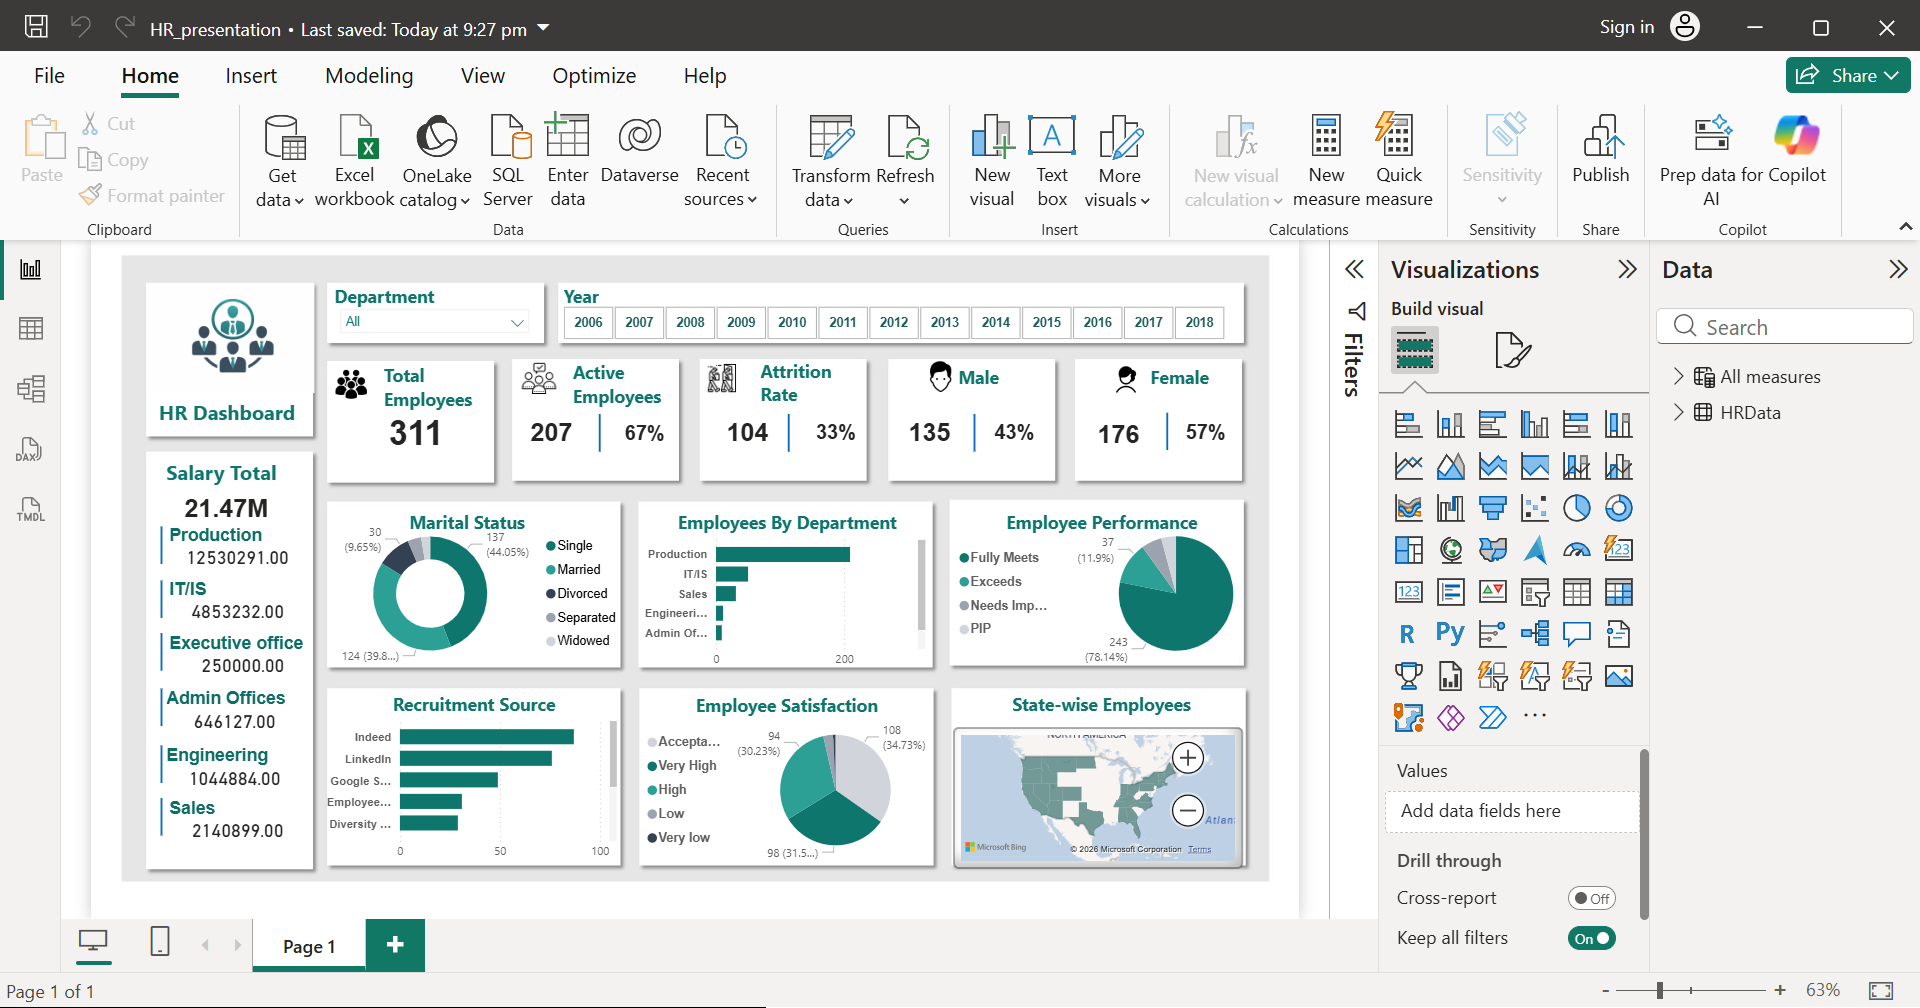

This screenshot's page, from the dashboard's own definition file:
{"tool":"powerbi","page":{"name":"Page 1","canvas":[1280,720],"ordinal":0},"visuals":[{"type":"textbox","box":[66.8,162.2,157.5,42.9],"z":0},{"type":"textbox","box":[704.6,120.9,112.9,62],"z":1000},{"type":"textbox","box":[505.8,122.5,112.9,77.9],"z":2000},{"type":"textbox","box":[305.4,125.7,117.7,76.3],"z":3000},{"type":"textbox","box":[253.2,41.6,156.9,43.5],"z":4000},{"type":"textbox","box":[74.8,225.9,149.5,55.7],"z":5000},{"type":"textbox","box":[496.3,41.4,157.5,44.5],"z":6000},{"type":"textbox","box":[914.3,127.1,64.3,42.9],"z":7000},{"type":"textbox","box":[1117.5,127.5,83.8,42.5],"z":8000},{"type":"textbox","box":[314.9,474,189.3,42.9],"z":9000},{"type":"textbox","box":[965.5,281.5,222.7,42.9],"z":10000},{"type":"textbox","box":[617.2,281.5,249.7,44.5],"z":11000},{"type":"textbox","box":[332.4,281.5,155.9,42.9],"z":12000},{"type":"textbox","box":[971.9,474,208.4,42.9],"z":13000},{"type":"textbox","box":[636.2,475.6,213.1,42.9],"z":14000},{"type":"image","box":[63.6,46.1,173.4,116.1],"z":15000},{"type":"image","box":[259.3,133.6,33.4,38.2],"z":16000},{"type":"image","box":[454.9,127.2,41.4,39.8],"z":17000},{"type":"image","box":[641,130.4,55.7,31.8],"z":18000},{"type":"image","box":[1076.2,130,41.2,33.8],"z":19000},{"type":"image","box":[878.8,127.5,46.2,35],"z":20000},{"type":"slicer","fields":{"Values":["HRData.Department"]},"box":[253.8,63.8,220,48.8],"z":21000},{"type":"card","fields":{"Values":["All measures.Head count"]},"box":[292.7,175,103.4,55.7],"z":22000},{"type":"card","fields":{"Values":["All measures.Active"]},"box":[448.8,170,78.8,67.5],"z":23000},{"type":"card","fields":{"Values":["All measures.Active %"]},"box":[535,171.2,105,67.5],"z":24000},{"type":"shape","box":[516.2,185,45,40],"z":25000},{"type":"card","fields":{"Values":["All measures.Terminated"]},"box":[652.5,172.5,87.5,63.8],"z":26000},{"type":"card","fields":{"Values":["All measures.Terminated %"]},"box":[750.8,173.4,77.9,60.4],"z":27000},{"type":"shape","box":[717.5,183.8,45,40],"z":28000},{"type":"card","fields":{"Values":["All measures.Male"]},"box":[850,175,78.8,56.2],"z":29000},{"type":"card","fields":{"Values":["All measures.Female"]},"box":[1050,173.8,78.8,63.8],"z":30000},{"type":"card","fields":{"Values":["All measures.Male %"]},"box":[949.6,170.2,58.9,68.4],"z":31000},{"type":"card","fields":{"Values":["All measures.Female %"]},"box":[1142.1,168.6,79.5,70],"z":32000},{"type":"shape","box":[1118.2,182.9,46.1,39.8],"z":33000},{"type":"shape","box":[914.6,184.5,44.5,39.8],"z":34000},{"type":"donutChart","fields":{"Category":["HRData.MaritalStatus"],"Y":["All measures.Head count"]},"box":[231.7,288.3,338.3,173.3],"z":35000},{"type":"barChart","fields":{"Category":["HRData.Department"],"Y":["All measures.Head count"]},"box":[570,303.3,320,158.3],"z":36000},{"type":"pieChart","fields":{"Category":["HRData.PerformanceScore"],"Y":["All measures.Head count"]},"box":[915,288.3,365,173.3],"z":37000},{"type":"barChart","fields":{"Category":["HRData.RecruitmentSource"],"Y":["All measures.Head count"]},"box":[231.7,496.7,330,170],"z":38000},{"type":"pieChart","fields":{"Category":["HRData.emp satisfaction"],"Y":["All measures.Head count"]},"box":[583.3,496.7,318.3,173.3],"z":39000},{"type":"filledMap","fields":{"Category":["HRData.State"]},"box":[914.6,516.9,307,149.5],"z":40000},{"type":"card","fields":{"Values":["All measures.Total Salary"]},"box":[87.5,264,111.3,39.8],"z":41000},{"type":"slicer","fields":{"Values":["HRData.Year"]},"box":[475,63.3,750,48.3],"z":42000},{"type":"card","title":"Production","fields":{"Values":["All measures.Salary_production"]},"box":[77.9,302.2,154.3,46.1],"z":43000},{"type":"card","title":"IT/IS","fields":{"Values":["All measures.Salary_IT_IS"]},"box":[77.9,359.5,154.3,46.1],"z":44000},{"type":"card","title":"Executive office","fields":{"Values":["All measures.Salary_executive"]},"box":[77.9,416.7,165.4,46.1],"z":45000},{"type":"card","title":"Admin Offices","fields":{"Values":["All measures.Salary_Admin_off"]},"box":[74.8,475.6,154.3,46.1],"z":46000},{"type":"card","title":"Engineering","fields":{"Values":["All measures.Salary_Engineering"]},"box":[74.8,536,154.3,46.1],"z":47000},{"type":"card","title":"Sales","fields":{"Values":["All measures.Salary_sales"]},"box":[77.9,591.7,154.3,46.1],"z":48000},{"type":"shape","box":[52.5,303.8,44.5,39.8],"z":49000},{"type":"shape","box":[52.5,475.6,44.5,39.8],"z":50000},{"type":"shape","box":[52.5,361.1,44.5,39.8],"z":51000},{"type":"shape","box":[52.5,416.7,44.5,39.8],"z":52000},{"type":"shape","box":[52.5,536,44.5,39.8],"z":53000},{"type":"shape","box":[52.5,591.7,44.5,39.8],"z":54000}]}

Visuals, with their boxes on the page's 1280x720 design canvas (x1, y1, x2, y2). These are canvas units, not pixel positions in the 1920x1008 screenshot, which may show the page scaled, cropped or inside an application window:
textbox: select_region(67, 162, 224, 205)
textbox: select_region(705, 121, 818, 183)
textbox: select_region(506, 122, 619, 200)
textbox: select_region(305, 126, 423, 202)
textbox: select_region(253, 42, 410, 85)
textbox: select_region(75, 226, 224, 282)
textbox: select_region(496, 41, 654, 86)
textbox: select_region(914, 127, 979, 170)
textbox: select_region(1118, 128, 1201, 170)
textbox: select_region(315, 474, 504, 517)
textbox: select_region(966, 282, 1188, 324)
textbox: select_region(617, 282, 867, 326)
textbox: select_region(332, 282, 488, 324)
textbox: select_region(972, 474, 1180, 517)
textbox: select_region(636, 476, 849, 518)
image: select_region(64, 46, 237, 162)
image: select_region(259, 134, 293, 172)
image: select_region(455, 127, 496, 167)
image: select_region(641, 130, 697, 162)
image: select_region(1076, 130, 1117, 164)
image: select_region(879, 128, 925, 162)
slicer - HRData.Department: select_region(254, 64, 474, 113)
card - All measures.Head count: select_region(293, 175, 396, 231)
card - All measures.Active: select_region(449, 170, 528, 238)
card - All measures.Active %: select_region(535, 171, 640, 239)
shape: select_region(516, 185, 561, 225)
card - All measures.Terminated: select_region(652, 172, 740, 236)
card - All measures.Terminated %: select_region(751, 173, 829, 234)
shape: select_region(718, 184, 762, 224)
card - All measures.Male: select_region(850, 175, 929, 231)
card - All measures.Female: select_region(1050, 174, 1129, 238)
card - All measures.Male %: select_region(950, 170, 1008, 239)
card - All measures.Female %: select_region(1142, 169, 1222, 239)
shape: select_region(1118, 183, 1164, 223)
shape: select_region(915, 184, 959, 224)
donutChart - HRData.MaritalStatus x All measures.Head count: select_region(232, 288, 570, 462)
barChart - HRData.Department x All measures.Head count: select_region(570, 303, 890, 462)
pieChart - HRData.PerformanceScore x All measures.Head count: select_region(915, 288, 1280, 462)
barChart - HRData.RecruitmentSource x All measures.Head count: select_region(232, 497, 562, 667)
pieChart - HRData.emp satisfaction x All measures.Head count: select_region(583, 497, 902, 670)
filledMap - HRData.State: select_region(915, 517, 1222, 666)
card - All measures.Total Salary: select_region(88, 264, 199, 304)
slicer - HRData.Year: select_region(475, 63, 1225, 112)
"Production" card: select_region(78, 302, 232, 348)
"IT/IS" card: select_region(78, 360, 232, 406)
"Executive office" card: select_region(78, 417, 243, 463)
"Admin Offices" card: select_region(75, 476, 229, 522)
"Engineering" card: select_region(75, 536, 229, 582)
"Sales" card: select_region(78, 592, 232, 638)
shape: select_region(52, 304, 97, 344)
shape: select_region(52, 476, 97, 515)
shape: select_region(52, 361, 97, 401)
shape: select_region(52, 417, 97, 456)
shape: select_region(52, 536, 97, 576)
shape: select_region(52, 592, 97, 632)
